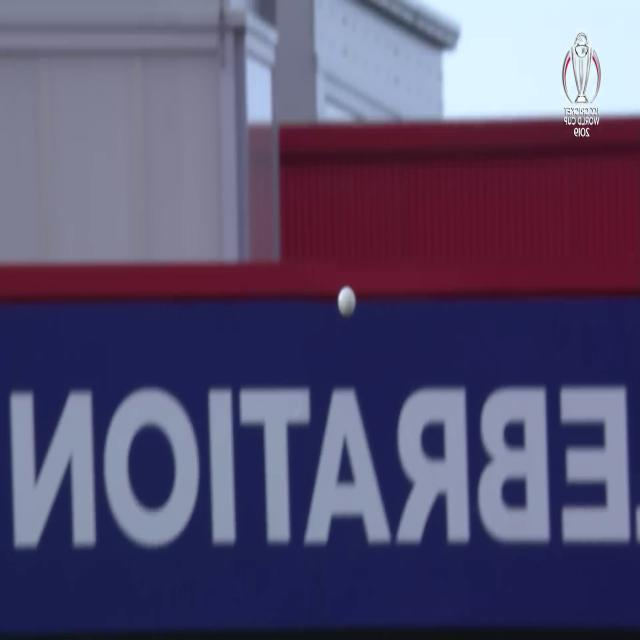ball: (329, 277, 362, 330)
